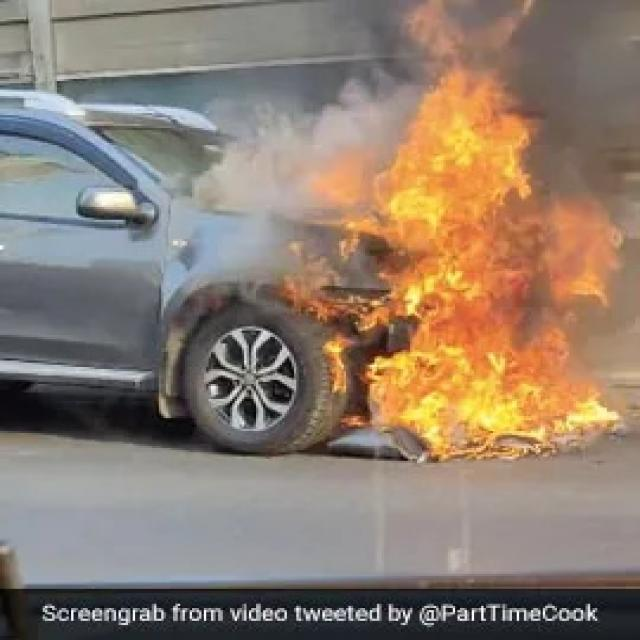fire: (344, 316, 621, 460), (374, 67, 542, 222), (383, 221, 625, 315), (283, 240, 344, 321), (314, 147, 373, 206), (405, 0, 463, 60), (543, 187, 613, 221), (491, 5, 532, 59), (339, 215, 383, 261), (323, 336, 351, 398)
